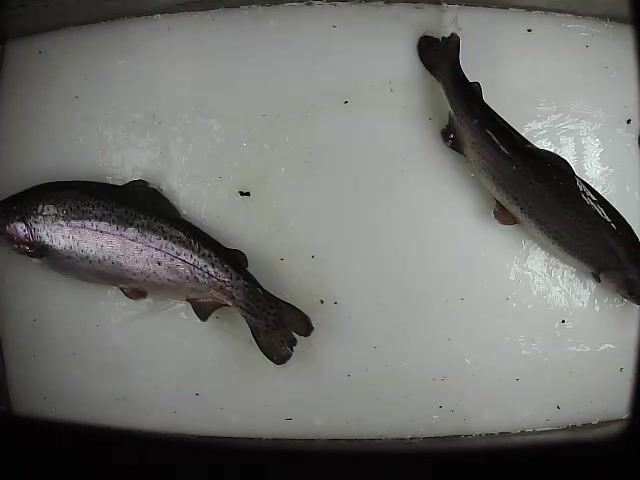fish: (417, 30, 640, 304), (1, 175, 316, 366)
